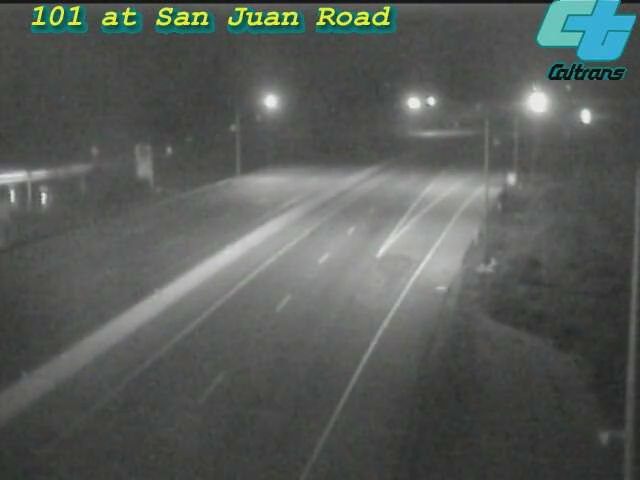vehicle: (555, 93, 605, 143), (510, 79, 560, 129)
